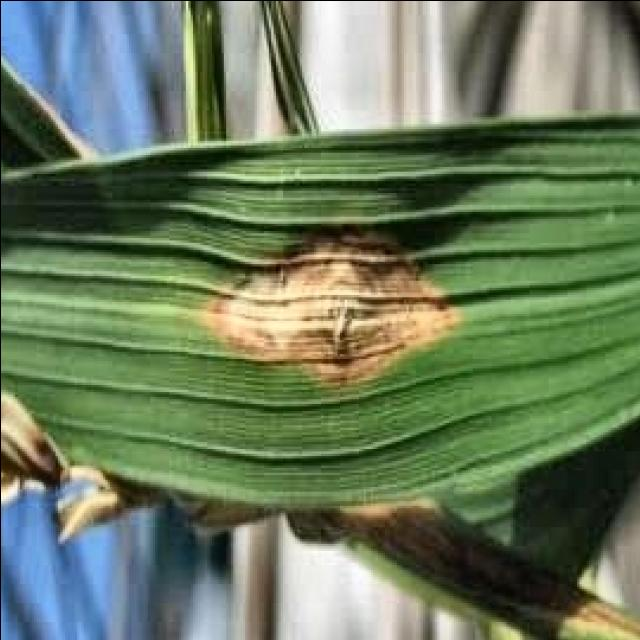Leaf_Blast: (187, 220, 467, 402)
